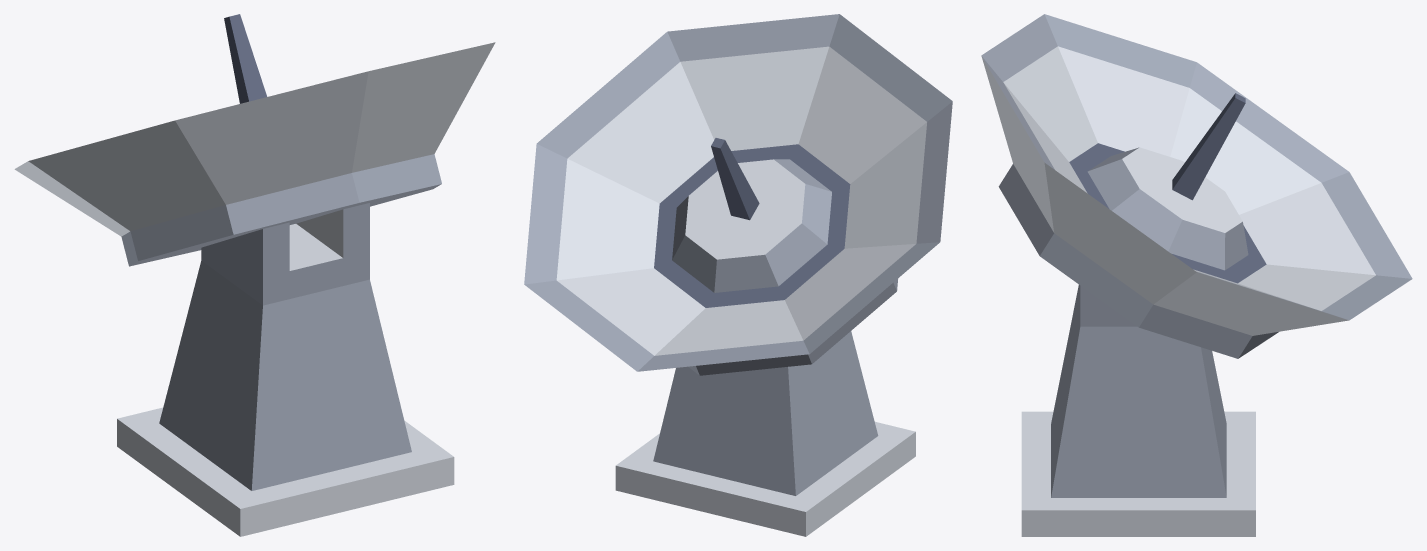
File: satelliteDish_large.glb
3 views of the same model, side by side, from view 1: azimuth 30°, elevation 25°; view 2: azimuth 150°, elevation 25°; view 3: azimuth 270°, elevation 25° (orthographic). The views are drawn at different scales.
Visible parts, largest first — view 1: satelliteDish_large; view 2: satelliteDish_large; view 3: satelliteDish_large.
Part boxes in pixels (left/top/right/bottom): satelliteDish_large: left=14, top=14, right=495, bottom=536; satelliteDish_large: left=524, top=14, right=952, bottom=536; satelliteDish_large: left=981, top=14, right=1412, bottom=536.
Bounding box in the file's own units: 0.8487 × 0.8142 × 0.7369.
